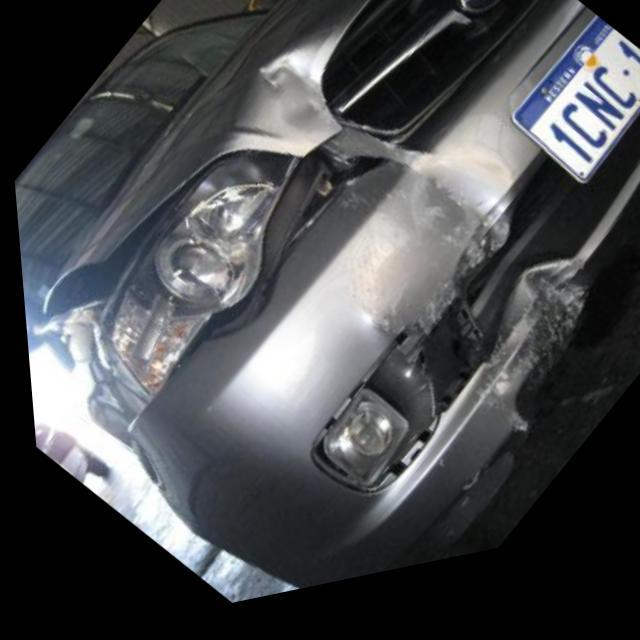license_plate: (495, 29, 640, 223)
